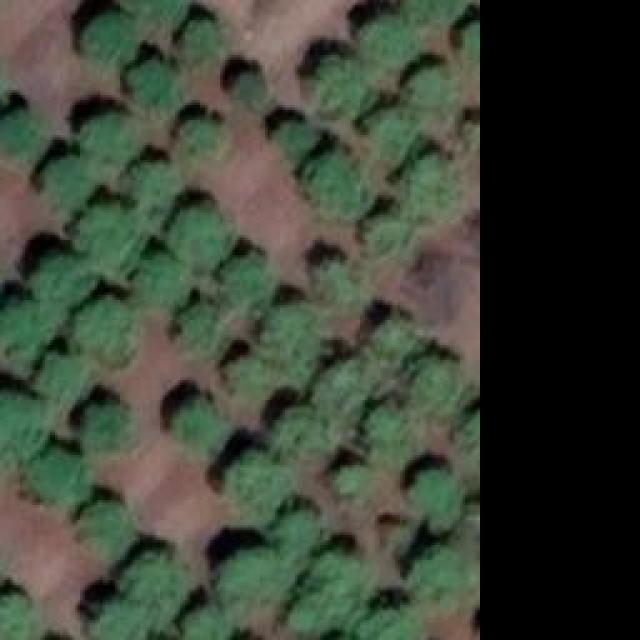Tree: (265, 507, 328, 595), (290, 555, 365, 625), (225, 448, 293, 518), (308, 148, 371, 221), (117, 558, 185, 623), (75, 208, 140, 273), (303, 52, 363, 120), (400, 153, 460, 218), (410, 545, 470, 610), (168, 205, 231, 265), (170, 398, 233, 458), (25, 445, 90, 503), (0, 300, 58, 363), (358, 10, 418, 70), (313, 360, 373, 420), (175, 300, 235, 360), (75, 297, 135, 355), (35, 258, 98, 313), (128, 163, 183, 223), (265, 303, 320, 363), (225, 350, 295, 395), (415, 357, 468, 415), (83, 13, 138, 68), (80, 113, 135, 168), (133, 253, 188, 308), (275, 405, 335, 455), (365, 403, 415, 463), (0, 390, 45, 455), (368, 315, 421, 370), (30, 353, 83, 408), (357, 597, 424, 640), (408, 465, 461, 518), (87, 597, 152, 640), (218, 550, 273, 600), (367, 105, 415, 160), (222, 253, 270, 306), (40, 155, 90, 205), (83, 503, 133, 553), (125, 63, 180, 108), (85, 400, 133, 448), (175, 602, 233, 640), (275, 115, 320, 163), (175, 18, 220, 61), (0, 110, 42, 155), (318, 258, 361, 301), (177, 117, 225, 155), (410, 65, 450, 108), (403, 0, 468, 25), (360, 215, 400, 253), (227, 65, 265, 103), (0, 595, 32, 640), (123, 0, 188, 20), (338, 463, 368, 493)
